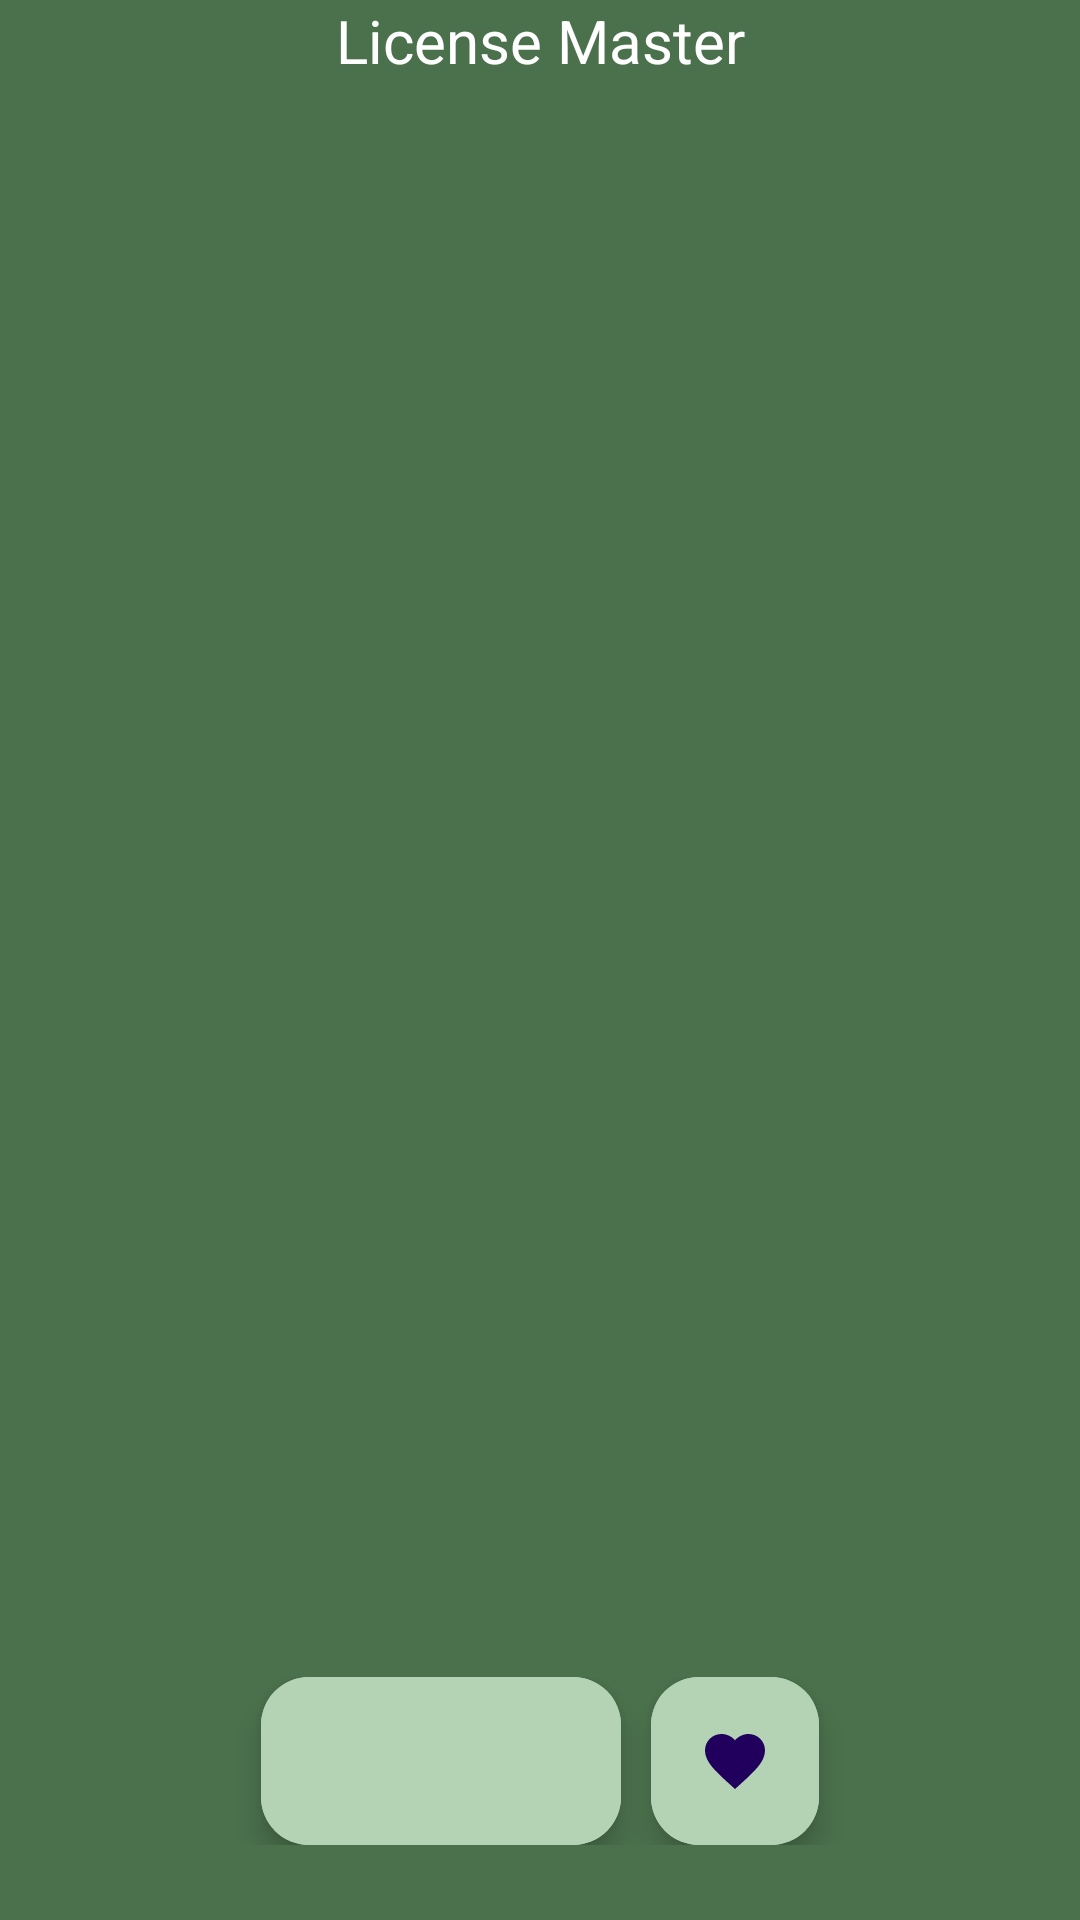

Icon click points for this 1080*1920 phone screenshot, format [x,y]:
heart: [735,1761]
